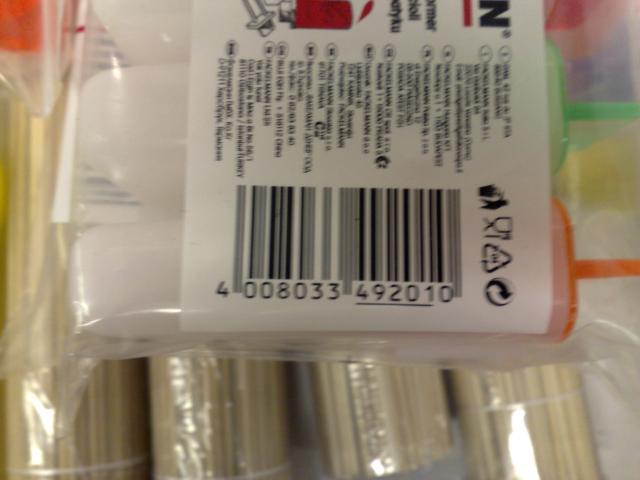Barkod: (230, 184, 460, 278)
